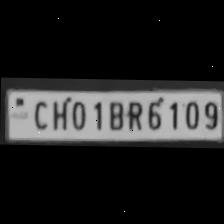0: (66, 97, 88, 130), (180, 97, 200, 128)
1: (164, 96, 182, 130), (88, 97, 106, 130)
6: (143, 96, 163, 130)
9: (200, 97, 220, 128)
B: (104, 97, 124, 129)
C: (29, 96, 49, 129)
H: (48, 96, 68, 130)
R: (123, 97, 143, 130)
